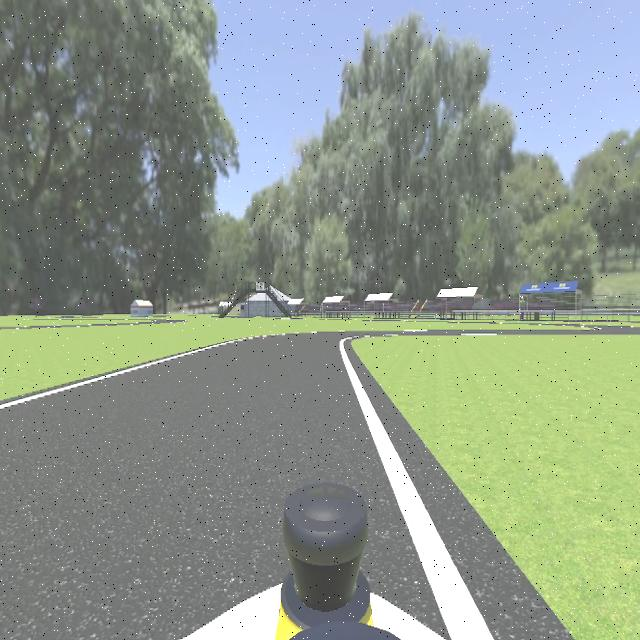road: (0, 336, 434, 640)
solid_line: (340, 341, 495, 640), (0, 338, 254, 412)
